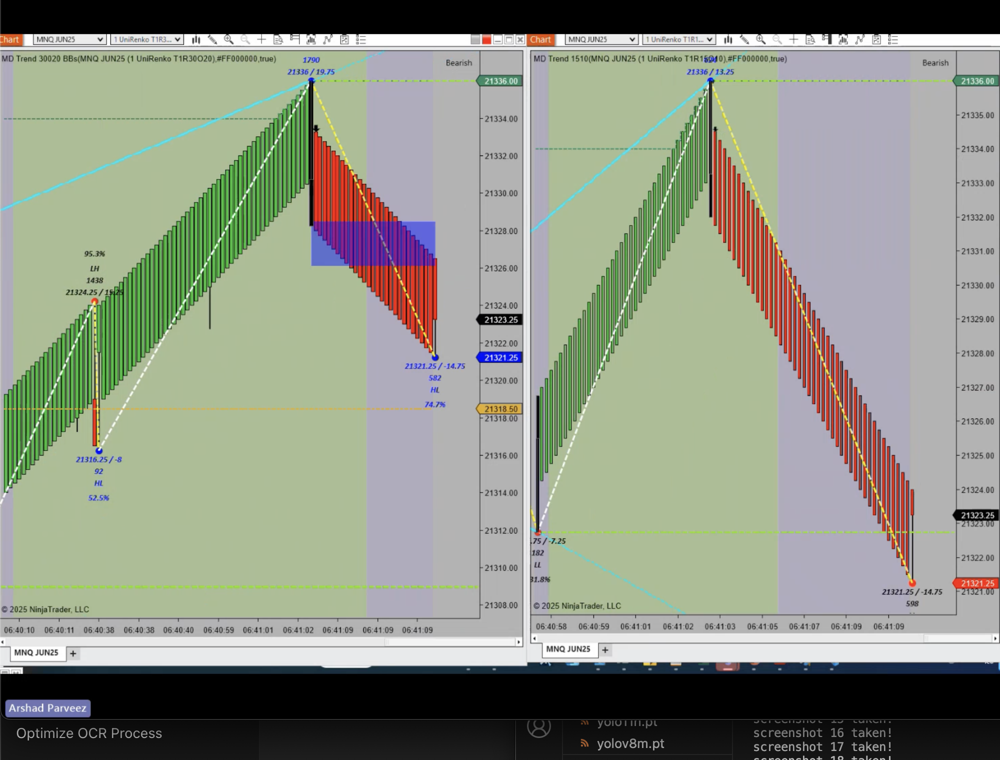HL: (426, 379, 444, 399), (89, 475, 109, 491)
LH: (82, 262, 107, 277)
LL: (529, 553, 547, 573)
